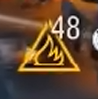1fire: (16, 43, 84, 77)
